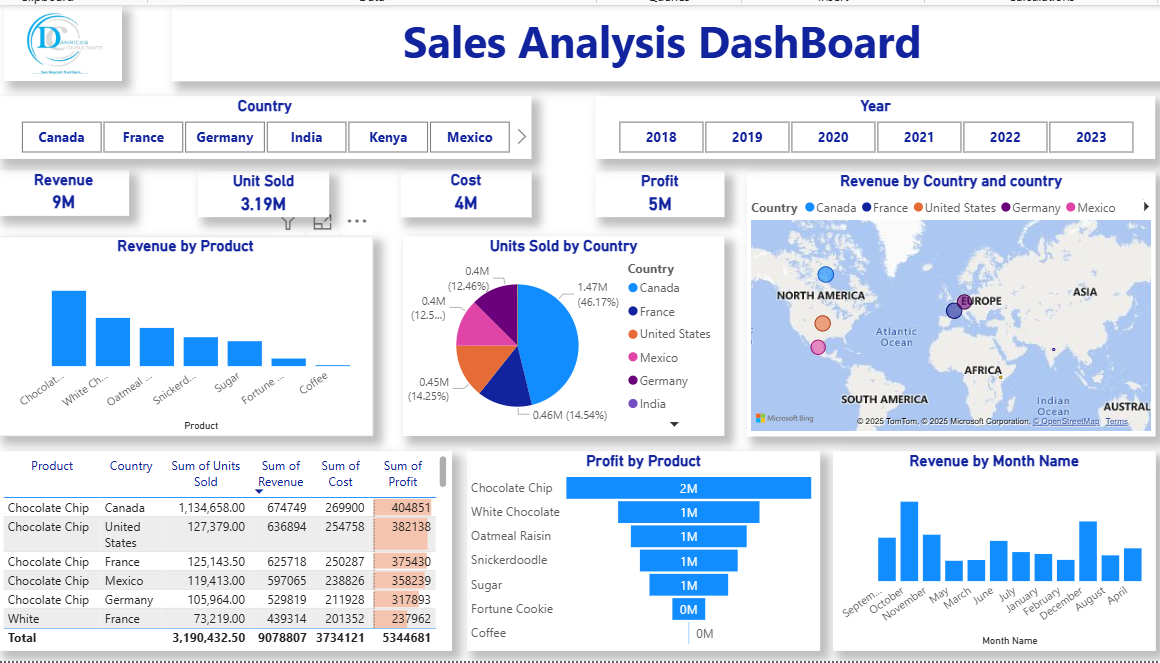

This screenshot's page, from the dashboard's own definition file:
{"tool":"powerbi","page":{"name":"Sales_Dashboard","canvas":[1280,720],"ordinal":0},"visuals":[{"type":"image","box":[7.3,1.5,128.8,82],"z":0},{"type":"textbox","box":[190.7,1.4,1089.5,82.3],"z":1},{"type":"columnChart","title":" Revenue by Product","fields":{"Y":["Sum(Sheet1.Revenue)"],"Category":["Sheet1.Product"]},"box":[0,253.9,411.7,219.6],"z":2},{"type":"card","title":"Revenue","fields":{"Values":["Sum(Sheet1.Revenue)"]},"box":[0,181.1,144.1,50.8],"z":3},{"type":"card","title":"Unit Sold","fields":{"Values":["Sum(Sheet1.Units Sold)"]},"box":[219.6,182.5,144.1,50.8],"z":4},{"type":"card","title":"Cost","fields":{"Values":["Sum(Sheet1.Cost)"]},"box":[441.9,181.1,144.1,52.1],"z":6},{"type":"card","title":"Profit","fields":{"Values":["Sum(Sheet1.Profit)"]},"box":[655.9,182.5,141.3,50.8],"z":7},{"type":"pieChart","title":"Units Sold by Country","fields":{"Y":["Sum(Sheet1.Units Sold)"],"Category":["Sheet1.Country"]},"box":[444.6,253.9,352.7,219.6],"z":8},{"type":"map","title":"Revenue by Country and country","fields":{"Size":["Sum(Sheet1.Revenue)"],"Category":["Sheet1.Country"],"Series":["Sheet1.Country"]},"box":[822,182.5,448.7,290.9],"z":9},{"type":"funnel","title":" Profit by Product","fields":{"Y":["Sum(Sheet1.Profit)"],"Category":["Sheet1.Product"]},"box":[514.6,489.9,388.3,219.6],"z":10},{"type":"tableEx","fields":{"Values":["Sheet1.Product","Sheet1.Country","Sum(Sheet1.Units Sold)","Sum(Sheet1.Revenue)","Sum(Sheet1.Cost)","Sum(Sheet1.Profit)"]},"box":[0,489.9,498.1,219.6],"z":11},{"type":"columnChart","title":"Revenue by Month Name","fields":{"Y":["Sum(Sheet1.Revenue)"],"Category":["Sheet1.Month Name"]},"box":[916.6,489.9,354,219.6],"z":12},{"type":"slicer","title":"Country","fields":{"Values":["Sheet1.Country"]},"box":[0,100.2,585.9,68.6],"z":13},{"type":"slicer","title":"Year","fields":{"Values":["Sheet1.Year"]},"box":[655.9,100.2,614.8,68.6],"z":14}]}

Visuals, with their boxes on the page's 1280x720 design canvas (x1, y1, x2, y2). These are canvas units, not pixel positions in the 1160x663 screenshot, which may show the page scaled, cropped or inside an application window:
image: box(7, 2, 136, 84)
textbox: box(191, 1, 1280, 84)
" Revenue by Product" columnChart: box(0, 254, 412, 474)
"Revenue" card: box(0, 181, 144, 232)
"Unit Sold" card: box(220, 182, 364, 233)
"Cost" card: box(442, 181, 586, 233)
"Profit" card: box(656, 182, 797, 233)
"Units Sold by Country" pieChart: box(445, 254, 797, 474)
"Revenue by Country and country" map: box(822, 182, 1271, 473)
" Profit by Product" funnel: box(515, 490, 903, 710)
tableEx - Sheet1.Product x Sheet1.Country: box(0, 490, 498, 710)
"Revenue by Month Name" columnChart: box(917, 490, 1271, 710)
"Country" slicer: box(0, 100, 586, 169)
"Year" slicer: box(656, 100, 1271, 169)
